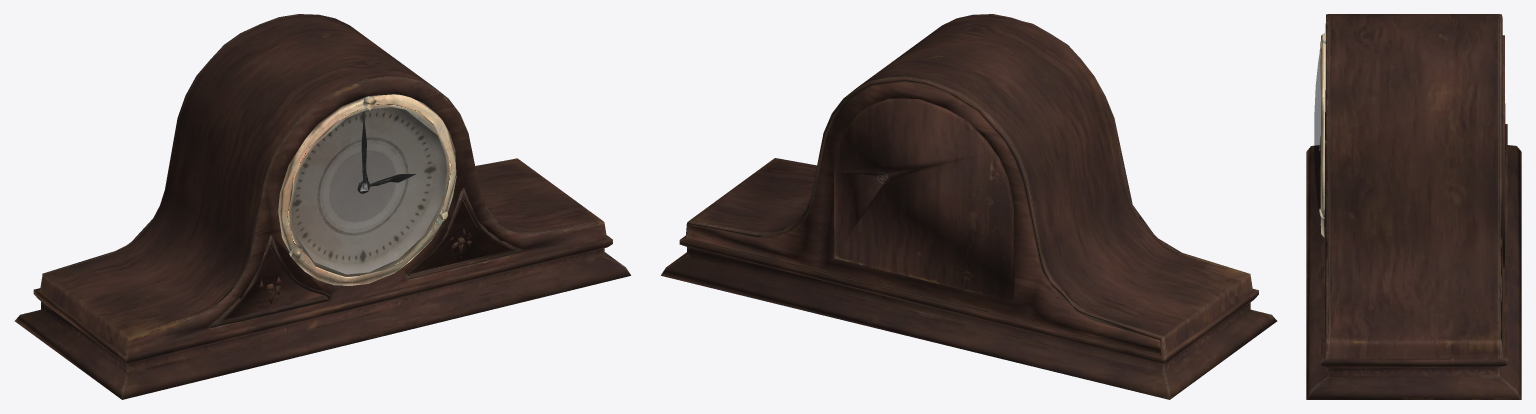
File: mantel_clock_01.glb
3 renders of one model, left to right at view 1: azimuth 30°, elevation 25°; view 2: azimuth 150°, elevation 25°; view 3: azimuth 270°, elevation 25°, orthographic.
Parts seen in each view (by area): view 1: mantel_clock_01, mantel_clock_01_glass; view 2: mantel_clock_01; view 3: mantel_clock_01, mantel_clock_01_glass.
Part boxes in pixels (x1,y1,x2,y2): mantel_clock_01: (14,14,630,399); mantel_clock_01_glass: (289,105,449,276); mantel_clock_01: (661,14,1277,399); mantel_clock_01: (1306,14,1521,399); mantel_clock_01_glass: (1314,51,1320,222).
Bounding box in the file's own units: 0.3418 × 0.1604 × 0.1252.
Materials: 2 (2 with a texture image).
